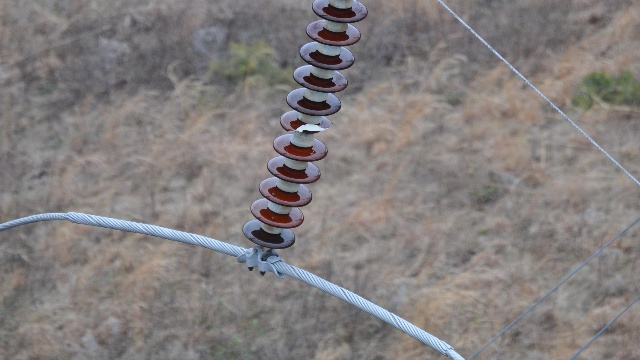broken_local: (284, 122, 337, 137)
insulator_unspecified: (242, 0, 367, 248)
